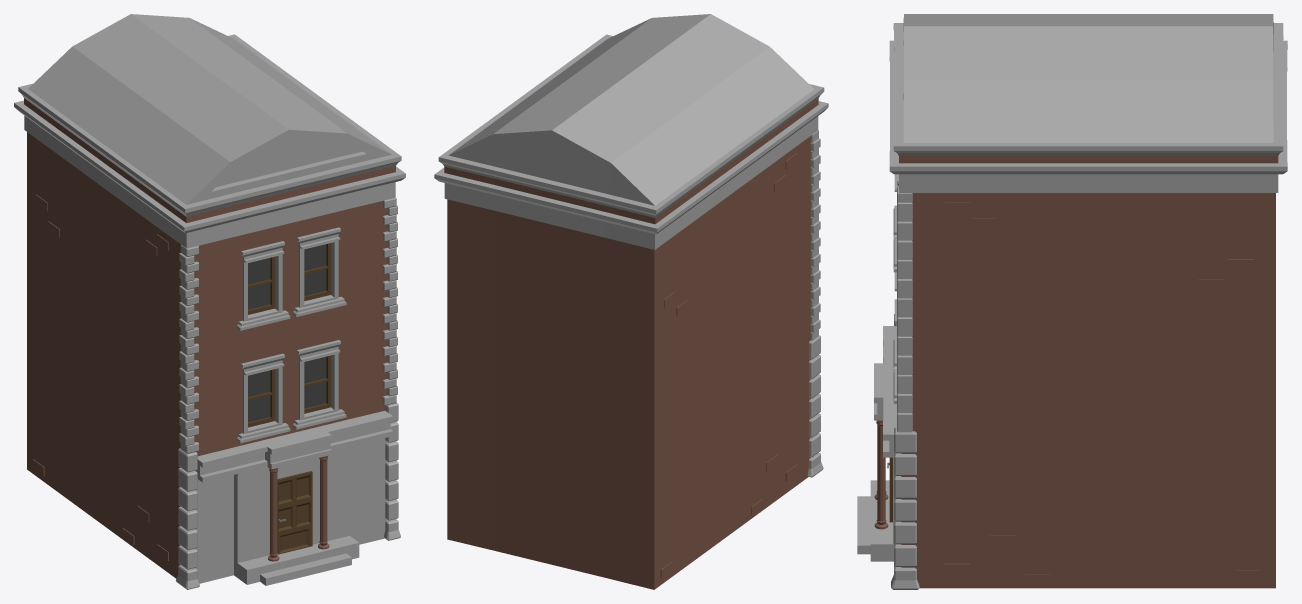
File: Building3_Small.glb
3 renders of one model, left to right at view 1: azimuth 30°, elevation 25°; view 2: azimuth 150°, elevation 25°; view 3: azimuth 270°, elevation 25°, orthographic. The views are drawn at different scales.
Visible parts, largest first — view 1: Building3_Small; view 2: Building3_Small; view 3: Building3_Small.
Part boxes in pixels (x1=…): Building3_Small: x1=14, y1=14, x2=405, y2=589; Building3_Small: x1=434, y1=14, x2=828, y2=589; Building3_Small: x1=857, y1=14, x2=1287, y2=589.
Size of the model in its own units: 3.05 by 5.68 by 4.4.
